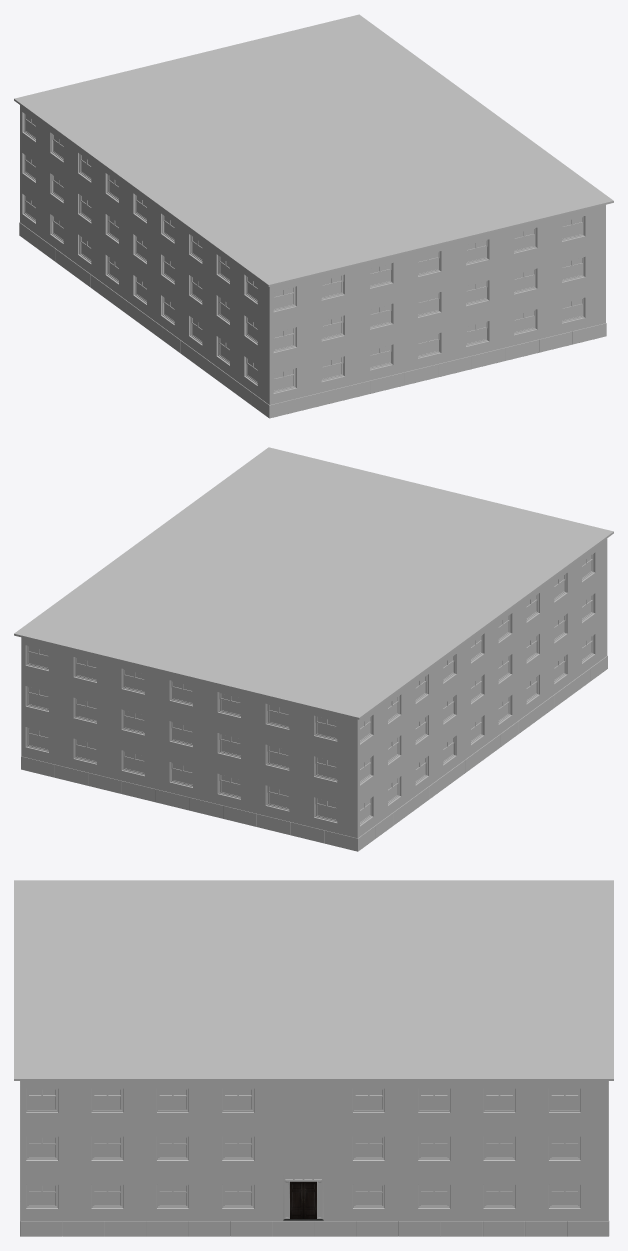
Rendered from Hospital_sm.FBX.
3 renders of one model, top to bottom at view 1: azimuth 30°, elevation 25°; view 2: azimuth 150°, elevation 25°; view 3: azimuth 270°, elevation 25°, orthographic. The views are drawn at different scales.
Visible parts, largest first — view 1: Hospital_sm_LOD0; view 2: Hospital_sm_LOD0; view 3: Hospital_sm_LOD0.
Boxes of the visible parts, x1,y1,x2,y2 form: Hospital_sm_LOD0: (14,14,613,418); Hospital_sm_LOD0: (14,447,613,851); Hospital_sm_LOD0: (14,880,613,1236).
Size of what is drawn, in the model's own units: 2921 by 3731 by 1101.
